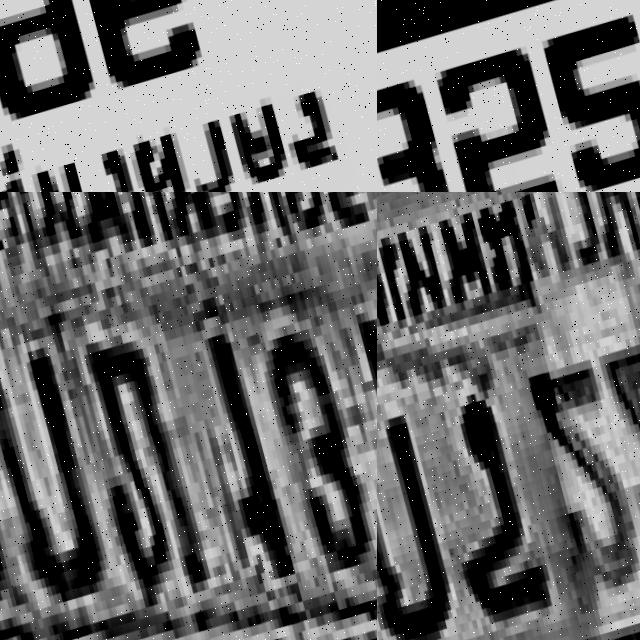license-plate: (0, 192, 377, 640), (377, 192, 640, 640), (0, 0, 377, 192), (377, 0, 640, 192)
